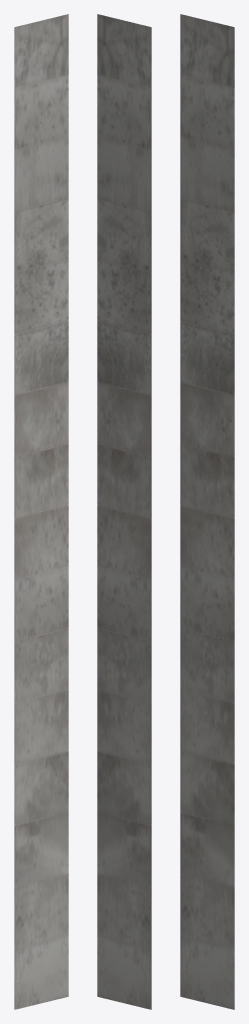
Rendered from SM_Wall_15u.glb.
3 renders of one model, left to right at view 1: azimuth 30°, elevation 25°; view 2: azimuth 150°, elevation 25°; view 3: azimuth 330°, elevation 25°, orthographic.
Visible parts, largest first — view 1: SM_Wall_15u; view 2: SM_Wall_15u; view 3: SM_Wall_15u.
Part boxes in pixels (x1,y1,x2,y2): SM_Wall_15u: (14, 14, 68, 1009); SM_Wall_15u: (97, 14, 151, 1009); SM_Wall_15u: (180, 14, 234, 1009).
Bounding box in the file's own units: 0.15 × 2.6 × 0.
2 materials, 2 textured.
